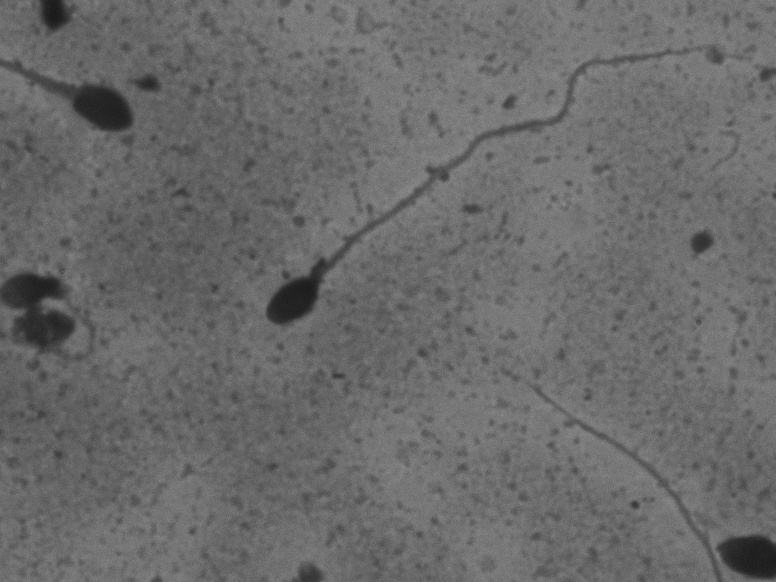Abnormal: (15, 17, 153, 177)
Normal: (247, 23, 739, 340)
